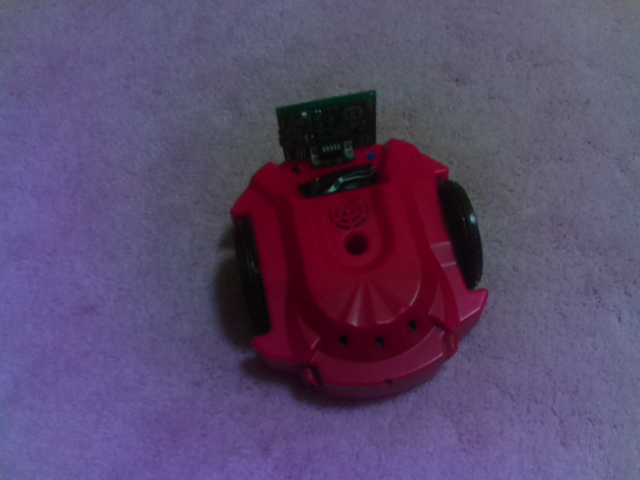chassis: (228, 88, 491, 408)
